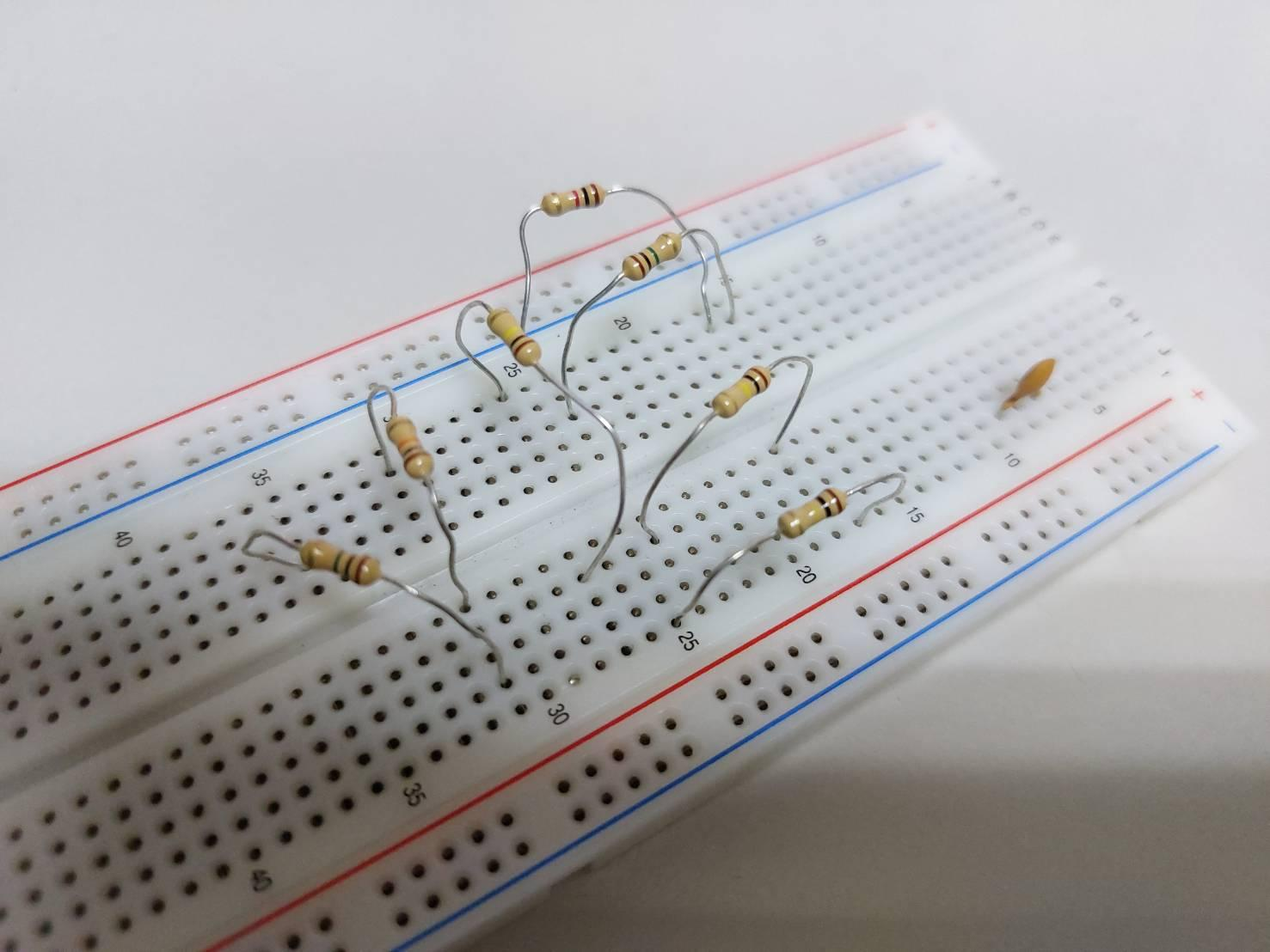resistor: (300, 537, 381, 583), (781, 486, 845, 538), (487, 308, 542, 367), (713, 364, 773, 418), (386, 412, 434, 478), (621, 232, 681, 279), (539, 182, 606, 215)
